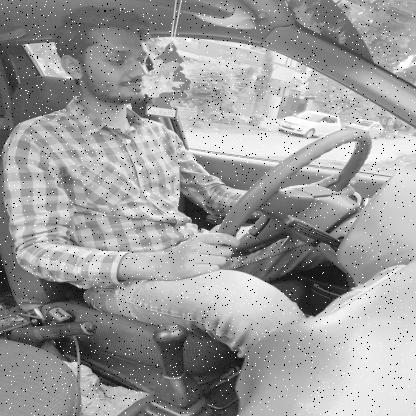no_seatbelt: (64, 26, 206, 226)
